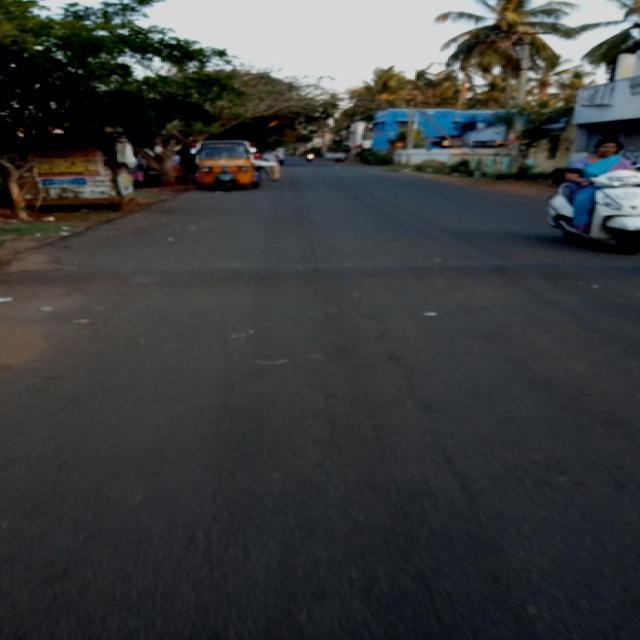NonMarked Bump: (57, 246, 638, 302)
